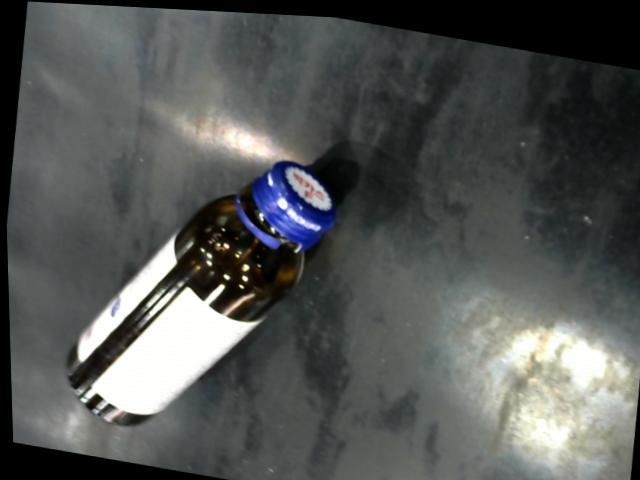glass: (53, 159, 336, 432)
